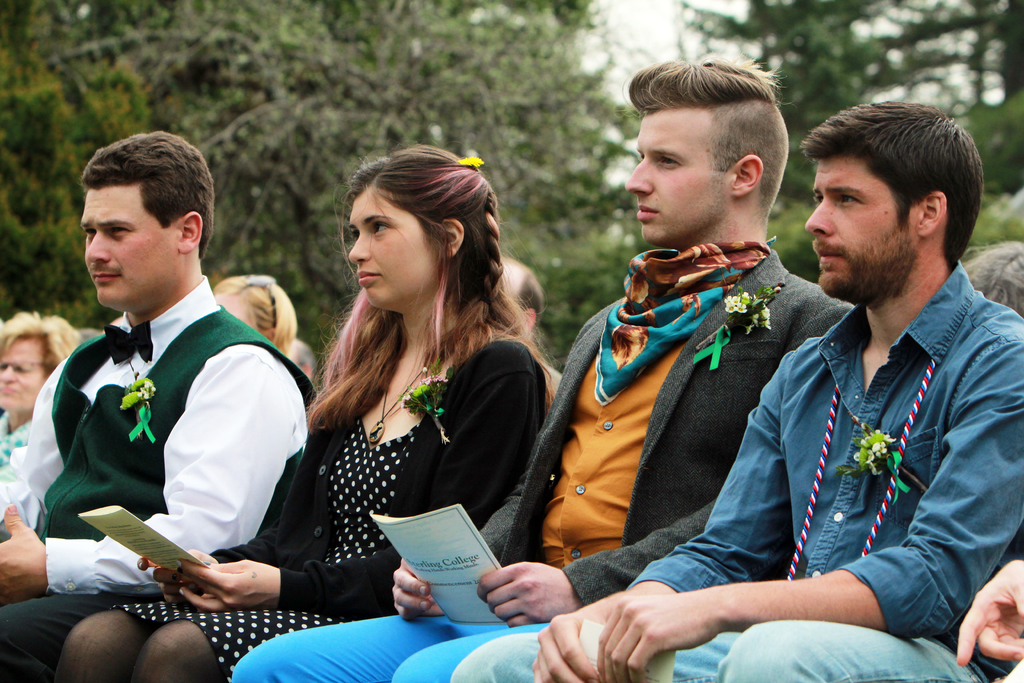Human_hand: (591, 591, 728, 682), (530, 593, 624, 682), (952, 557, 1023, 668), (474, 562, 586, 630), (175, 554, 280, 613), (0, 503, 48, 609), (136, 548, 219, 608), (389, 553, 450, 623)
